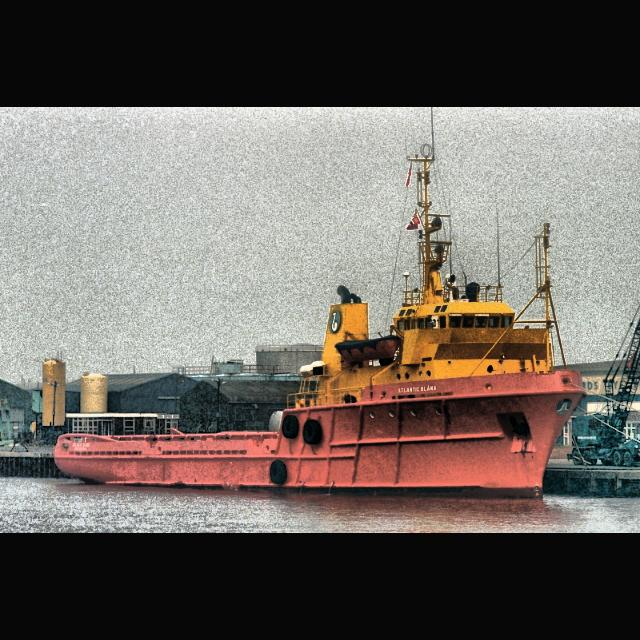anchor_handling_tug_supply: (52, 260, 590, 508)
